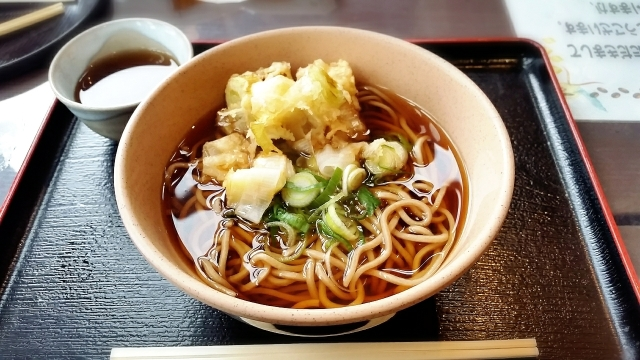Soba: (180, 165, 472, 299)
